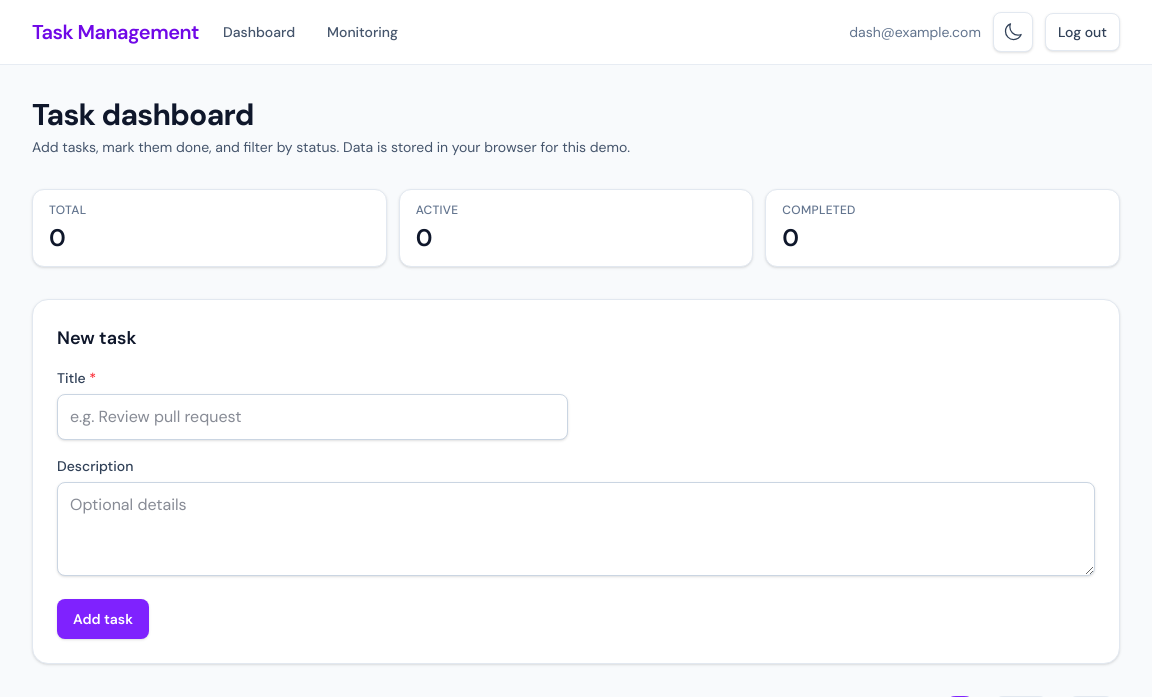
Test case: DashboardPage (local storage) › blocks submit when title is empty
The image size is (1152, 697).
Type "Only desc" into the text box with test id "task-description-input" at (576, 529), box [57,482,1095,576]
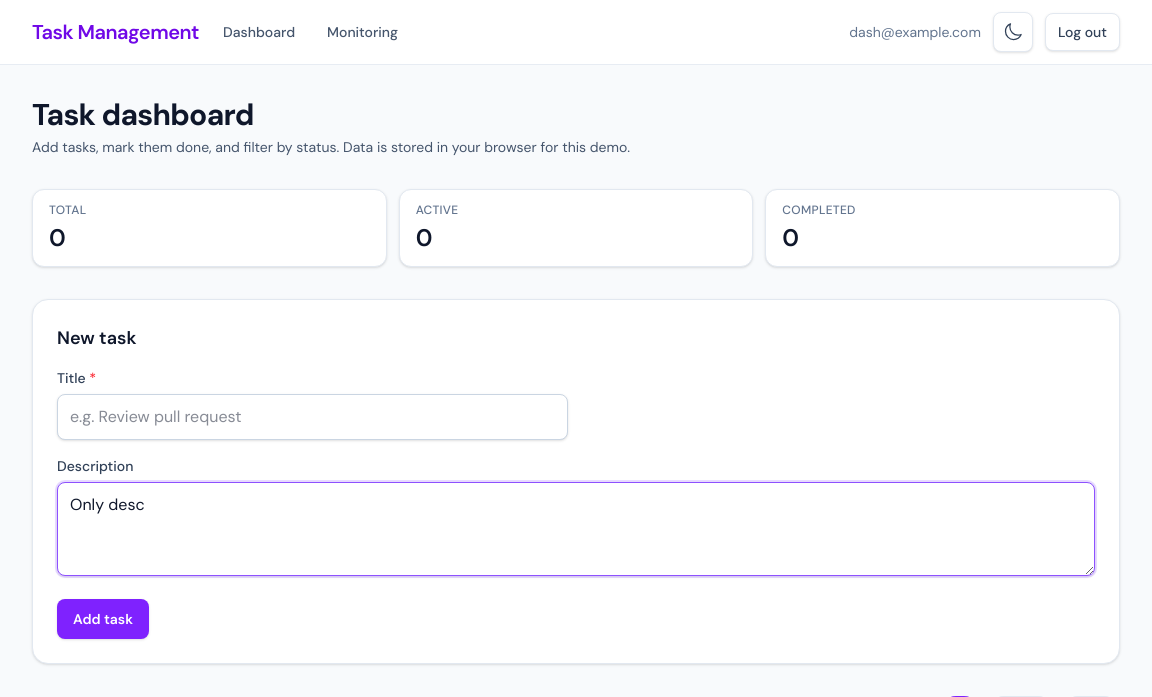
Click the button with test id "task-add-submit" at (103, 619), box [57,599,149,639]
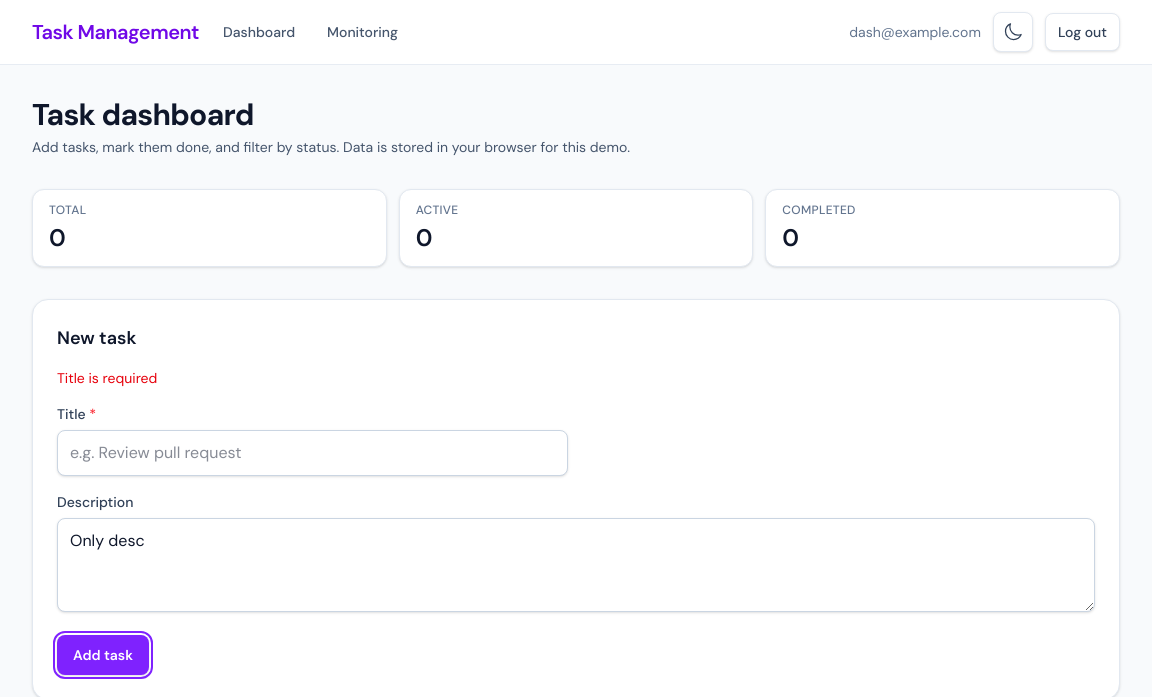
Result: the message with test id "task-form-error" reads "Title is required" at [57,369,157,387]
